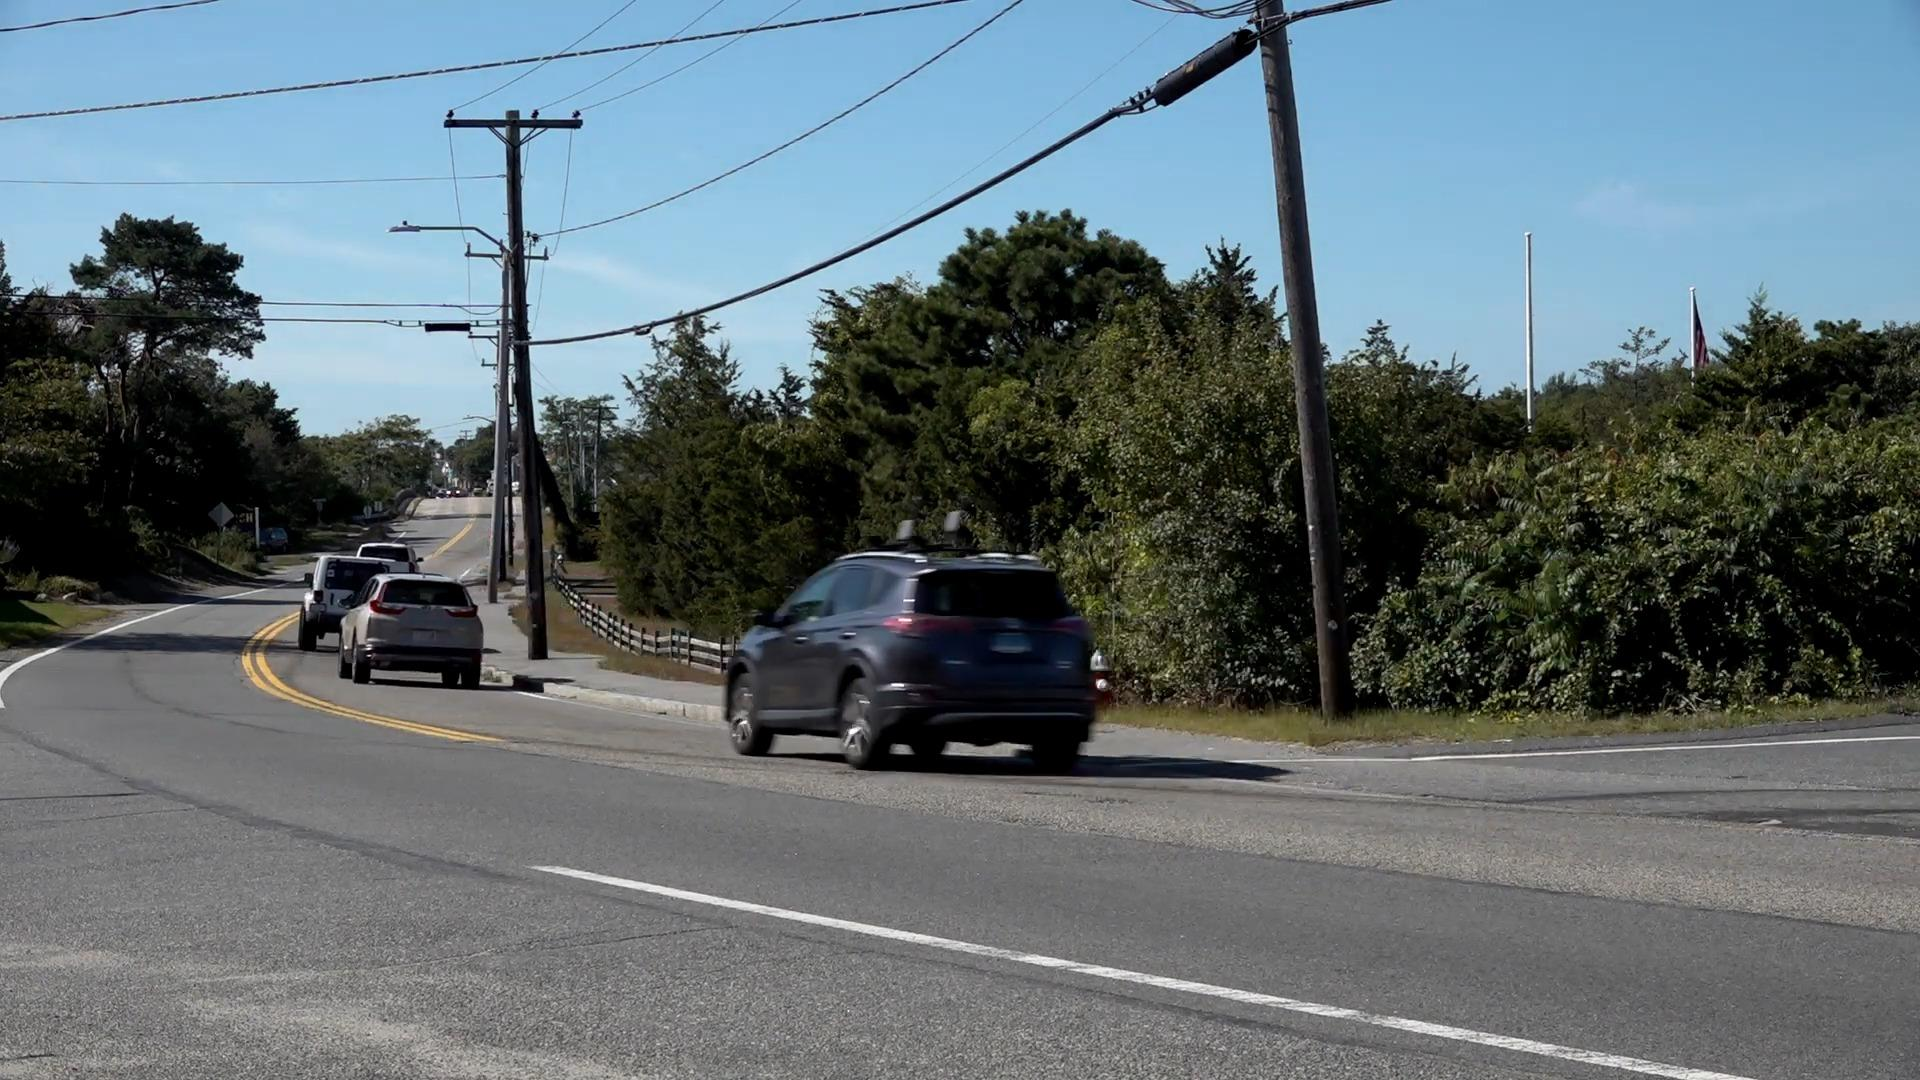suv: (729, 556, 1097, 773), (339, 574, 486, 686)
